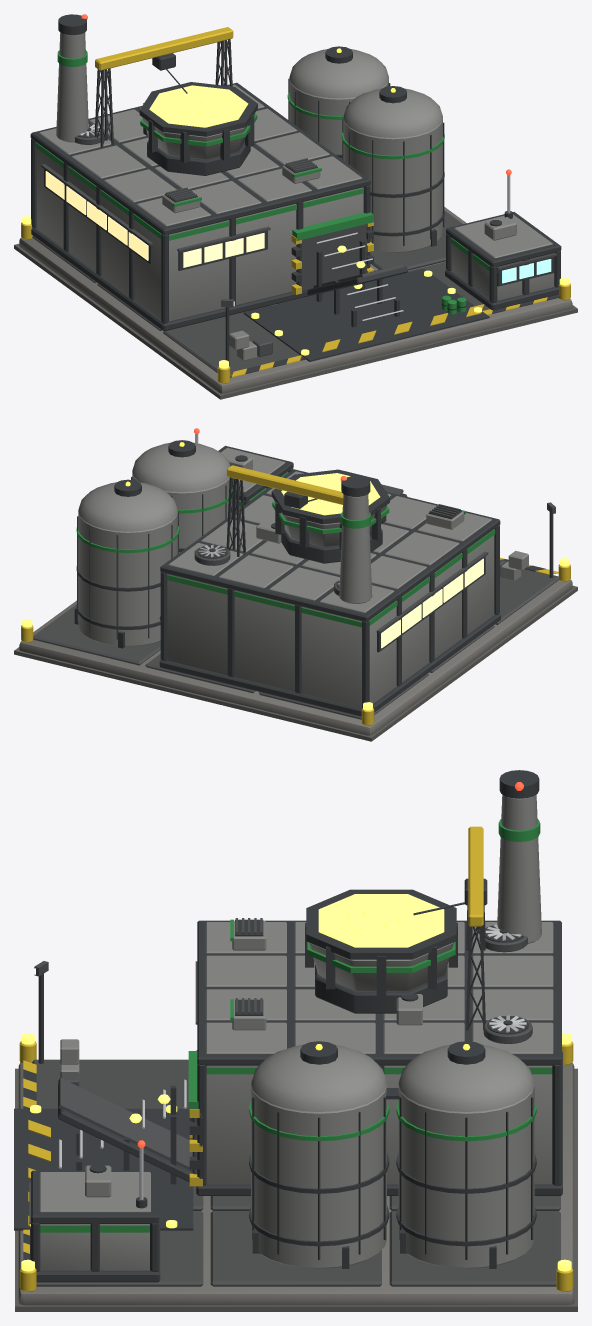
Rendered from refinery.glb.
The picture shows the model from 3 angles, top to bottom: view 1: azimuth 30°, elevation 25°; view 2: azimuth 150°, elevation 25°; view 3: azimuth 270°, elevation 25°; orthographic projection. The views are drawn at different scales.
Parts seen in each view (by area): view 1: Refinery_Walls, Refinery_Details, Refinery_Foundation, Refinery_Frame; view 2: Refinery_Walls, Refinery_Details, Refinery_Foundation, Refinery_Frame; view 3: Refinery_Walls, Refinery_Details, Refinery_Foundation, Refinery_Frame.
Part boxes in pixels (<box>): Refinery_Walls: <box>35,32,554,321</box>; Refinery_Details: <box>39,14,556,365</box>; Refinery_Foundation: <box>14,207,577,399</box>; Refinery_Frame: <box>30,27,561,331</box>; Refinery_Walls: <box>78,442,495,707</box>; Refinery_Details: <box>76,428,555,639</box>; Refinery_Foundation: <box>14,557,577,741</box>; Refinery_Frame: <box>74,445,500,716</box>; Refinery_Walls: <box>40,794,552,1270</box>; Refinery_Details: <box>29,770,553,1259</box>; Refinery_Foundation: <box>14,1033,577,1311</box>; Refinery_Frame: <box>30,826,562,1282</box>.
Bounding box in the file's own units: 2.98 × 1.89 × 2.99.
